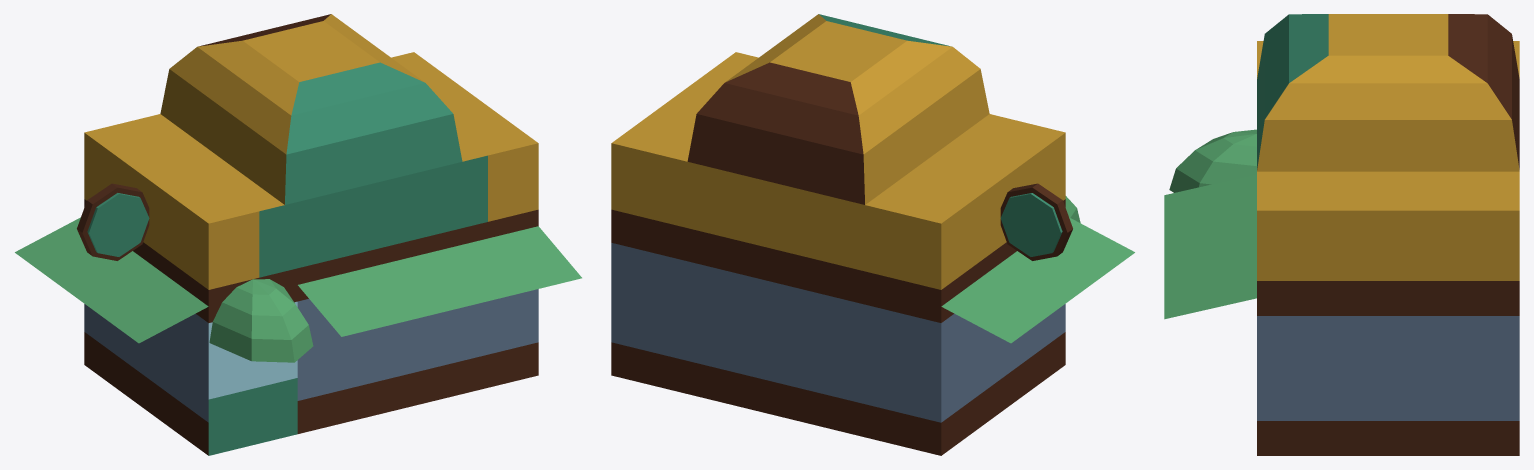
Rendered from xCoffeeShop.fbx.
3 views of the same model, side by side, from view 1: azimuth 30°, elevation 25°; view 2: azimuth 150°, elevation 25°; view 3: azimuth 270°, elevation 25° (orthographic). The views are drawn at different scales.
Parts seen in each view (by area): view 1: Cube.014, Cylinder; view 2: Cube.014, Cylinder; view 3: Cube.014.
Boxes of the visible parts, x1=… form: Cube.014: x1=15, y1=14, x2=581, y2=455; Cylinder: x1=77, y1=183, x2=149, y2=260; Cube.014: x1=611, y1=14, x2=1134, y2=455; Cylinder: x1=1000, y1=183, x2=1072, y2=260; Cube.014: x1=1164, y1=14, x2=1519, y2=455.
Size of the model in its own units: 6300 by 4800 by 4600.
